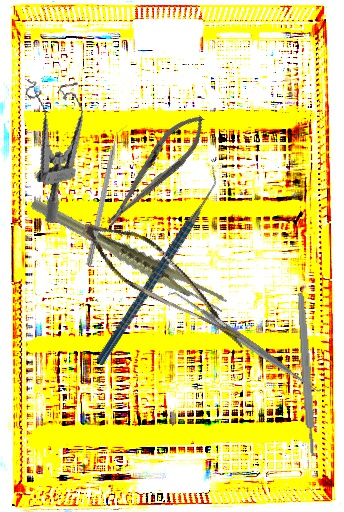Chopper: (45, 164, 269, 366), (85, 122, 130, 269)
Micro Scissor: (66, 212, 270, 350)
Needle Holder: (95, 105, 215, 236)
Scalpel Handle: (296, 292, 317, 457)
Spatula Surgical: (165, 281, 325, 402)
Speculum: (13, 68, 108, 225)
Tissue Forceps: (29, 166, 230, 343)
